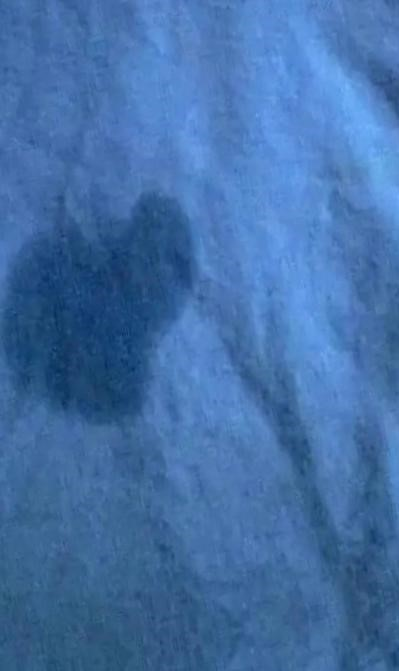stain: (5, 187, 217, 436)
